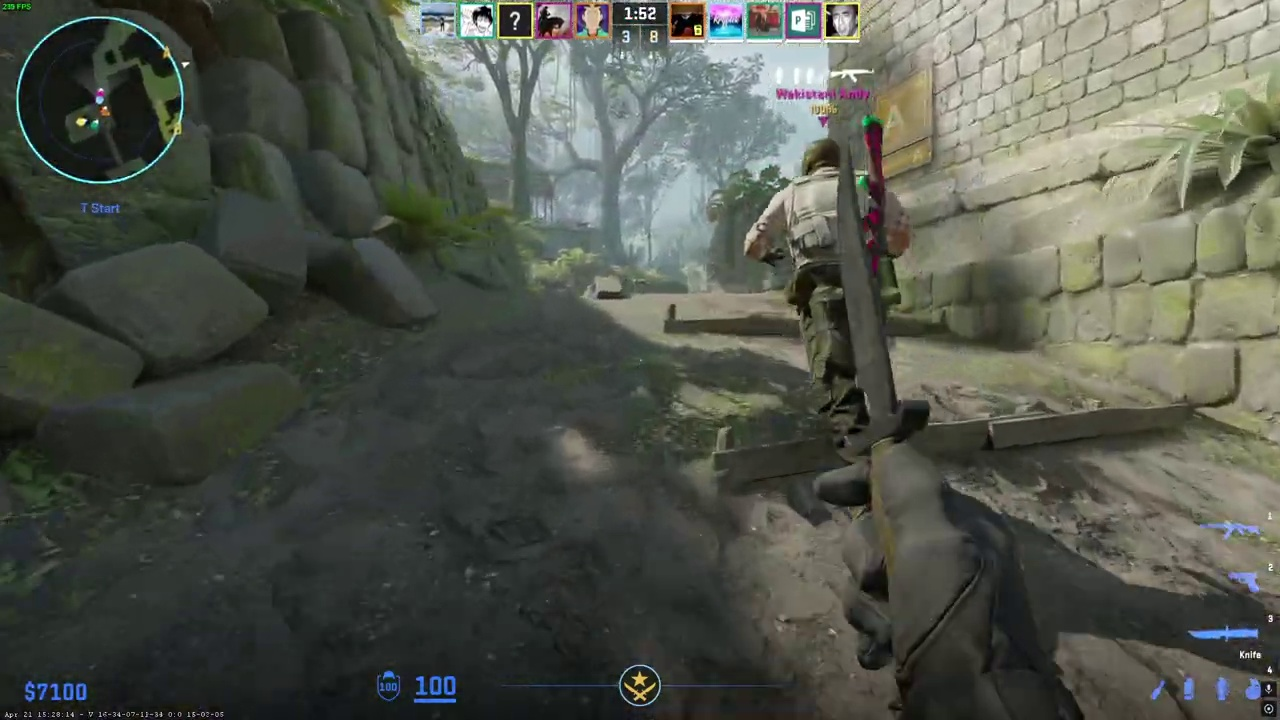Terrorist: (769, 138, 884, 434)
